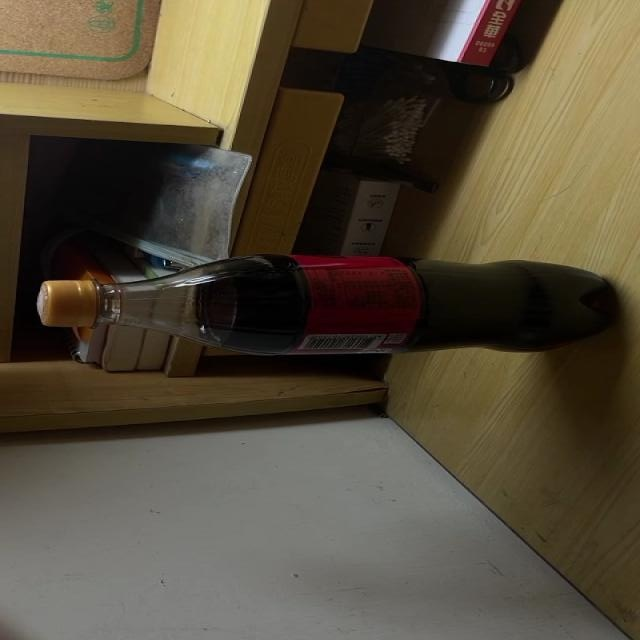Coca-Cola: (39, 255, 610, 352)
